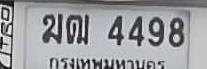4: (107, 14, 123, 45), (128, 15, 143, 45)
8: (168, 16, 183, 46)
9: (147, 16, 163, 45)
A06: (41, 12, 62, 42)
A18: (65, 13, 88, 44)
BKK: (46, 56, 168, 69)
